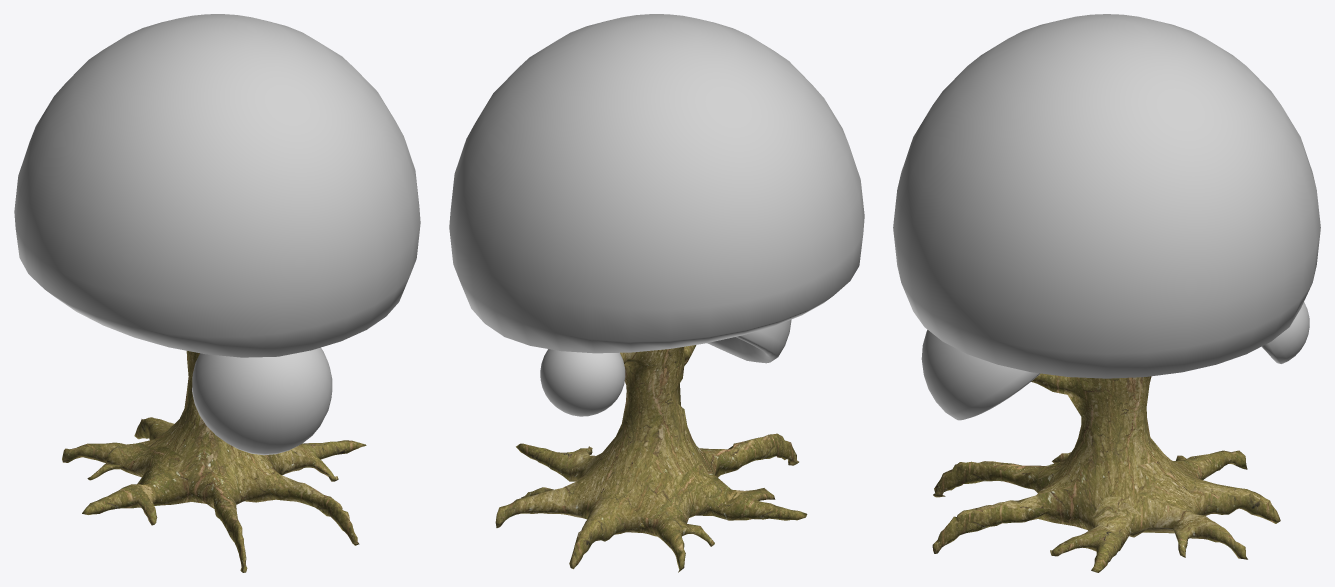
File: Arbol_02.fbx
3 views of the same model, side by side, from view 1: azimuth 30°, elevation 25°; view 2: azimuth 150°, elevation 25°; view 3: azimuth 270°, elevation 25° (orthographic). The views are drawn at different scales.
Visible parts, largest first — view 1: Sphere leaf.001, Trunk.001; view 2: Sphere leaf.001, Trunk.001; view 3: Sphere leaf.001, Trunk.001.
Boxes of the visible parts, <box> form: Sphere leaf.001: <box>14,14,420,455</box>; Trunk.001: <box>62,351,366,572</box>; Sphere leaf.001: <box>449,14,864,416</box>; Trunk.001: <box>495,345,807,572</box>; Sphere leaf.001: <box>893,14,1320,420</box>; Trunk.001: <box>932,373,1280,572</box>.
Bounding box in the file's own units: 614 × 777 × 614.
